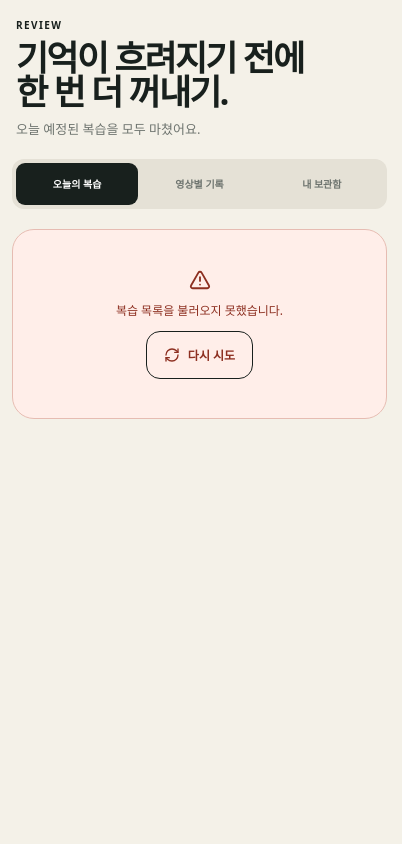
Test: Review tab shell › shows a retryable error state when the queue request fails
expect the message shows "복습 목록을 불러오지 못했습니다.": met, box left=116, top=302, right=283, bottom=319
Click the button "다시 시도".
click(200, 354)  # box left=146, top=330, right=253, bottom=378
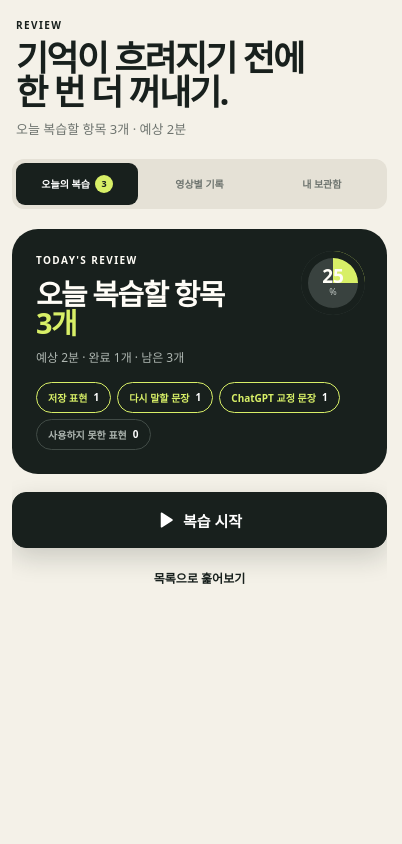
expect the button "복습 시작" is shown: met, box left=12, top=492, right=387, bottom=548
